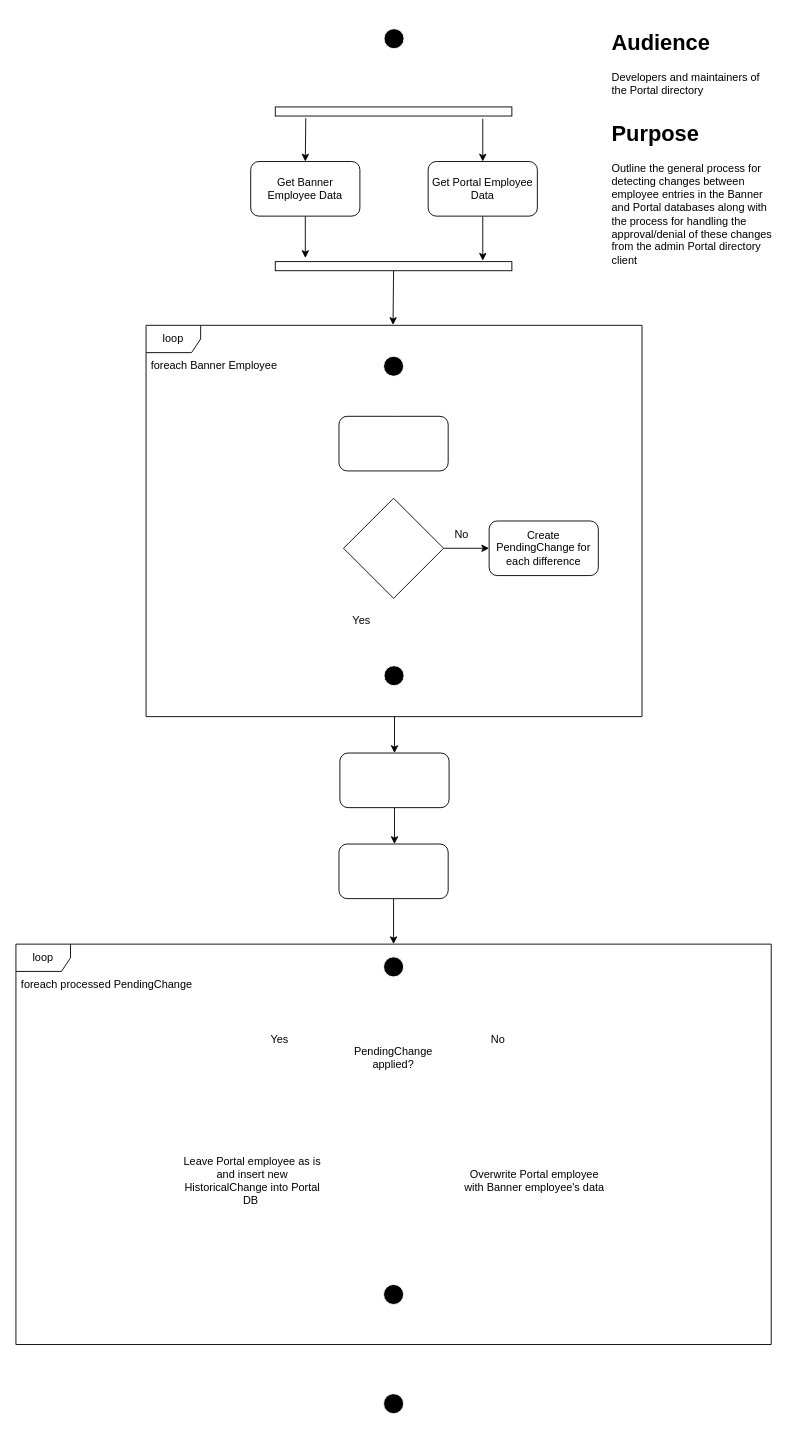
Some shapes in this 796 by 1433 pixel diagram are drawn without their labels. The centre of each missing label's shape, as x and y in pixels:
"Each Difference Approved?" goes at point (393, 547).
"Find difference between Banner and corresponding Portal employee" goes at point (393, 443).
"Send all PendingChange objects to admin client" goes at point (393, 871).
"Wait until admin client requests pending changes" goes at point (394, 780).
